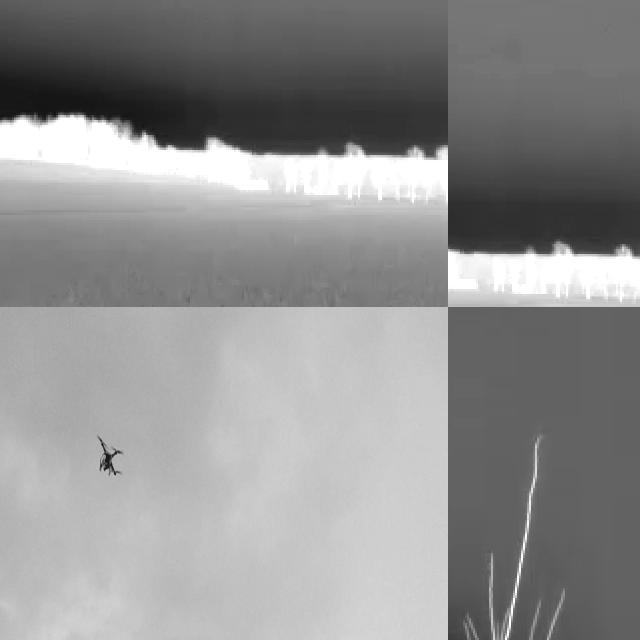drone: (91, 430, 126, 482)
